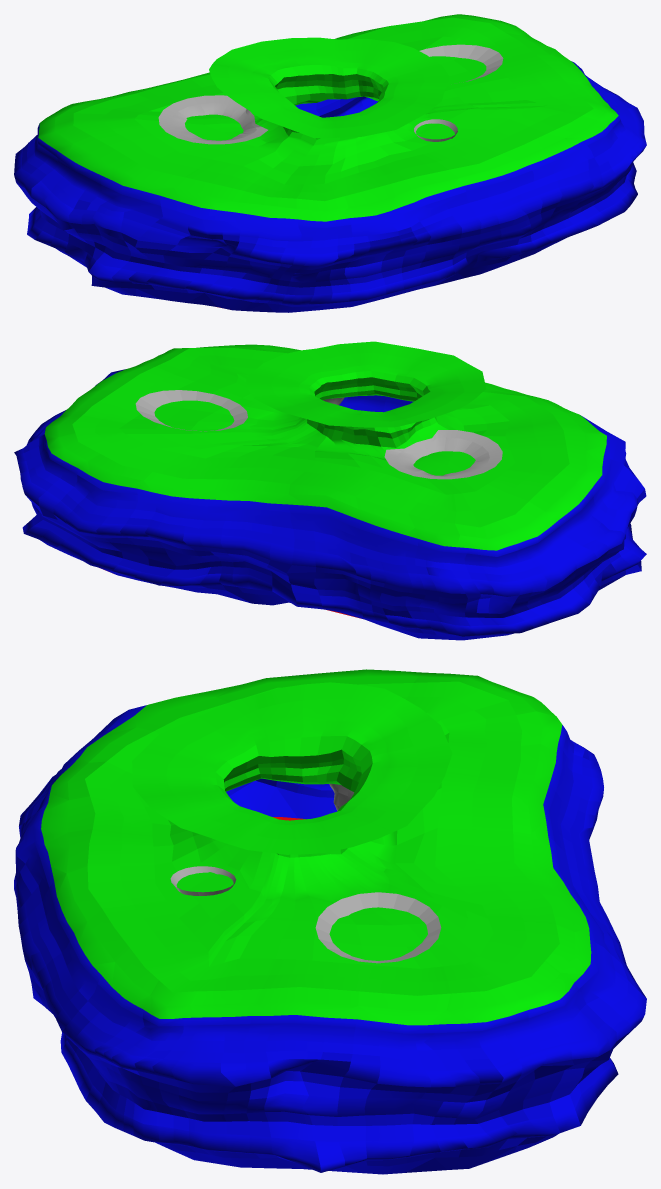
The model's file is Cavern_fixed.fbx.
3 views of the same model, one above another, from view 1: azimuth 30°, elevation 25°; view 2: azimuth 150°, elevation 25°; view 3: azimuth 270°, elevation 25° (orthographic). The views are drawn at different scales.
Visible parts, largest first — view 1: Walls, Pillar1, Pillar3; view 2: Walls, Pillar1, Pillar3; view 3: Walls, Pillar3, Pillar2.
Part boxes in pixels (bbox=[...]): Walls: bbox=[14, 14, 646, 312]; Pillar1: bbox=[158, 95, 267, 144]; Pillar3: bbox=[419, 44, 503, 82]; Walls: bbox=[14, 341, 646, 640]; Pillar1: bbox=[384, 430, 502, 479]; Pillar3: bbox=[135, 390, 247, 431]; Walls: bbox=[14, 669, 646, 1174]; Pillar3: bbox=[315, 892, 441, 963]; Pillar2: bbox=[170, 866, 236, 895].
Size of the model in its own units: 887 by 270 by 599.
